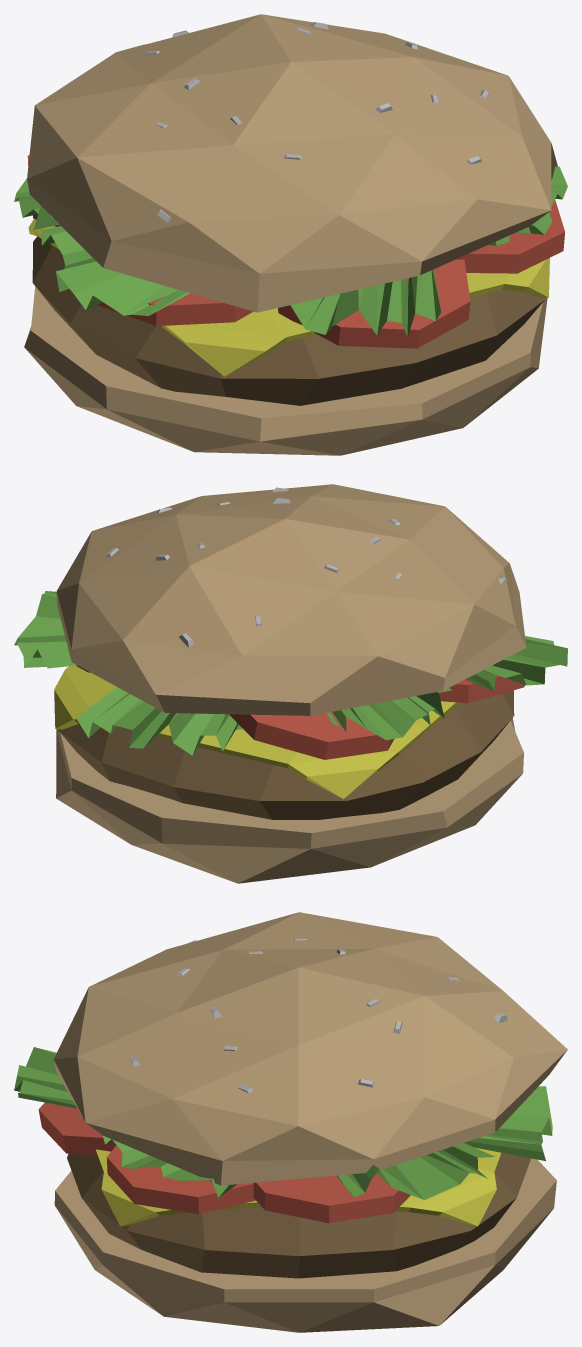
Rendered from Burger.glb.
3 views of the same model, one above another, from view 1: azimuth 30°, elevation 25°; view 2: azimuth 150°, elevation 25°; view 3: azimuth 270°, elevation 25° (orthographic). The views are drawn at different scales.
Parts seen in each view (by area): view 1: Burger; view 2: Burger; view 3: Burger.
Part boxes in pixels (bbox=[...]): Burger: bbox=[14, 14, 567, 455]; Burger: bbox=[14, 484, 567, 883]; Burger: bbox=[14, 912, 567, 1332].
Bounding box in the file's own units: 1.65 × 1.07 × 1.7.
